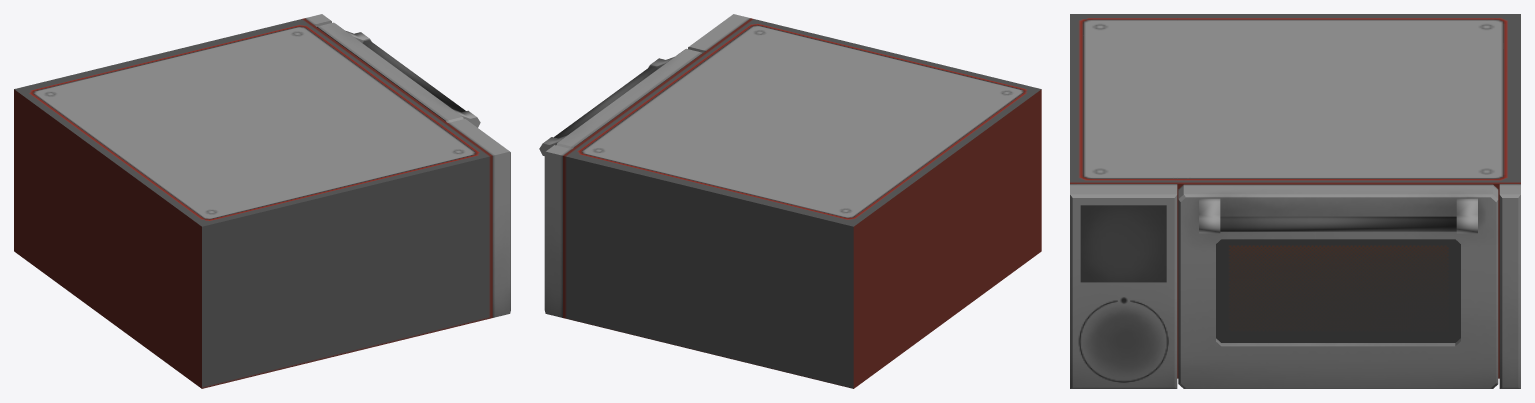
File: ovenclosed.gltf
3 renders of one model, left to right at view 1: azimuth 30°, elevation 25°; view 2: azimuth 150°, elevation 25°; view 3: azimuth 270°, elevation 25°, orthographic. The views are drawn at different scales.
Visible parts, largest first — view 1: Cube.001; view 2: Cube.001; view 3: Cube.001.
Boxes of the visible parts, <box> form: Cube.001: <box>14,14,510,388</box>; Cube.001: <box>539,14,1041,388</box>; Cube.001: <box>1070,14,1520,388</box>.
Bounding box in the file's own units: 2.14 × 1 × 2.1.
